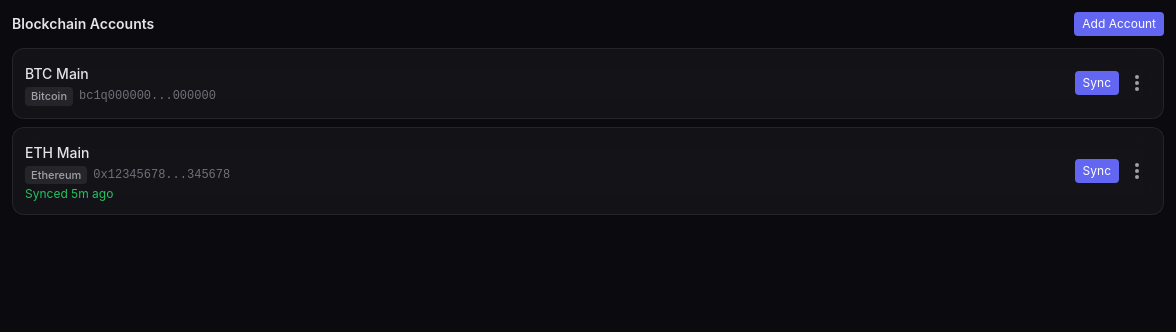
Scenario: WalletAccounts › opens edit address form from dropdown
This screenshot has width=1176, height=332.
What coordinates should you click on to do the following:
click the button without text in the row of "bc1q000000...000000"
I would click on:
 (1137, 83)
Its box is [1123,69,1151,97].
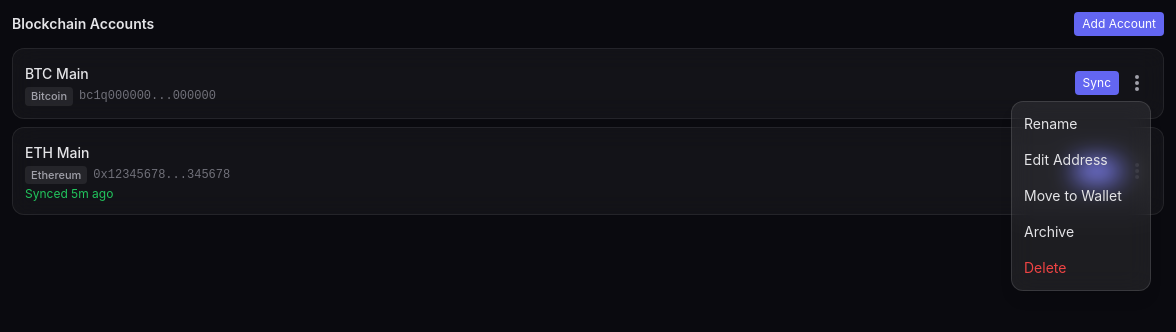
Result: the button "Edit Address" is shown
What coordinates should you click on to do the following:
click the button "Edit Address"
I would click on:
 (1081, 160)
Its box is [1012,142,1150,178].
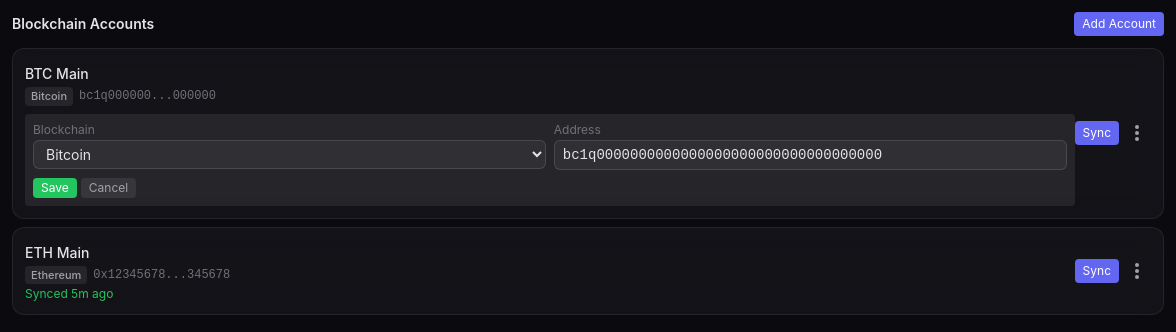
Result: the field showing "bc1q0000000000000000000000000000000000" is shown at [554,140,1067,170]
